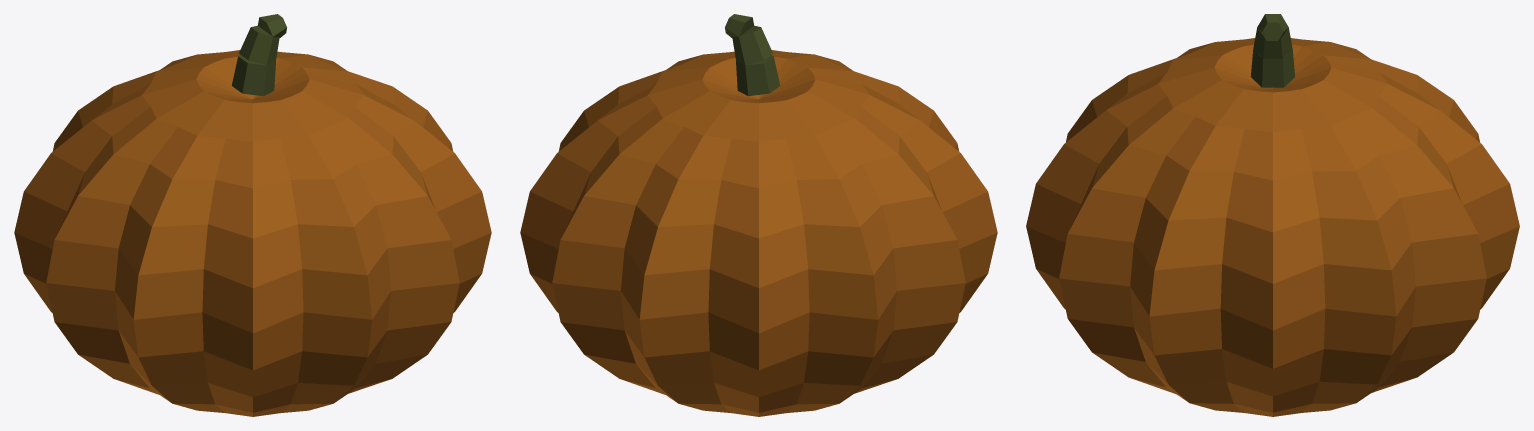
File: pumpkin_prize_medium.glb
3 renders of one model, left to right at view 1: azimuth 30°, elevation 25°; view 2: azimuth 150°, elevation 25°; view 3: azimuth 270°, elevation 25°, orthographic. The views are drawn at different scales.
Parts seen in each view (by area): view 1: Pumpkin; view 2: Pumpkin; view 3: Pumpkin.
Part boxes in pixels (box(x1,y1,x2,y2)): Pumpkin: box(14, 14, 491, 416); Pumpkin: box(520, 14, 997, 416); Pumpkin: box(1026, 14, 1519, 416).
Bounding box in the file's own units: 1.2 × 1.02 × 1.2.
